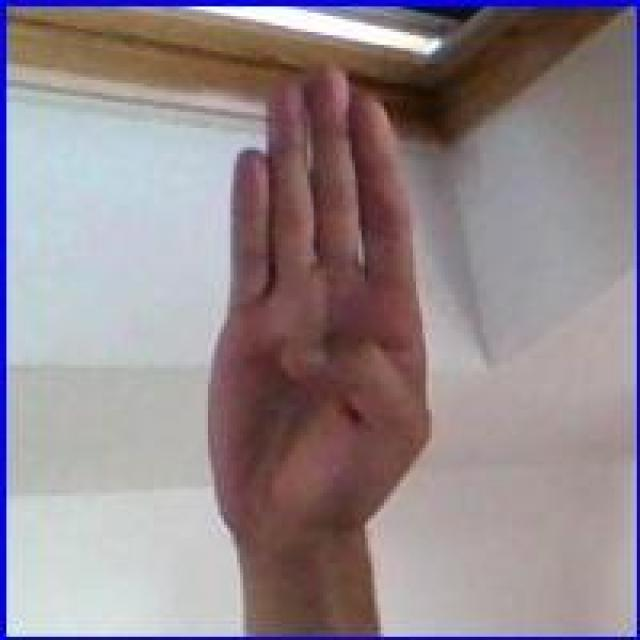B: (192, 54, 438, 570)
